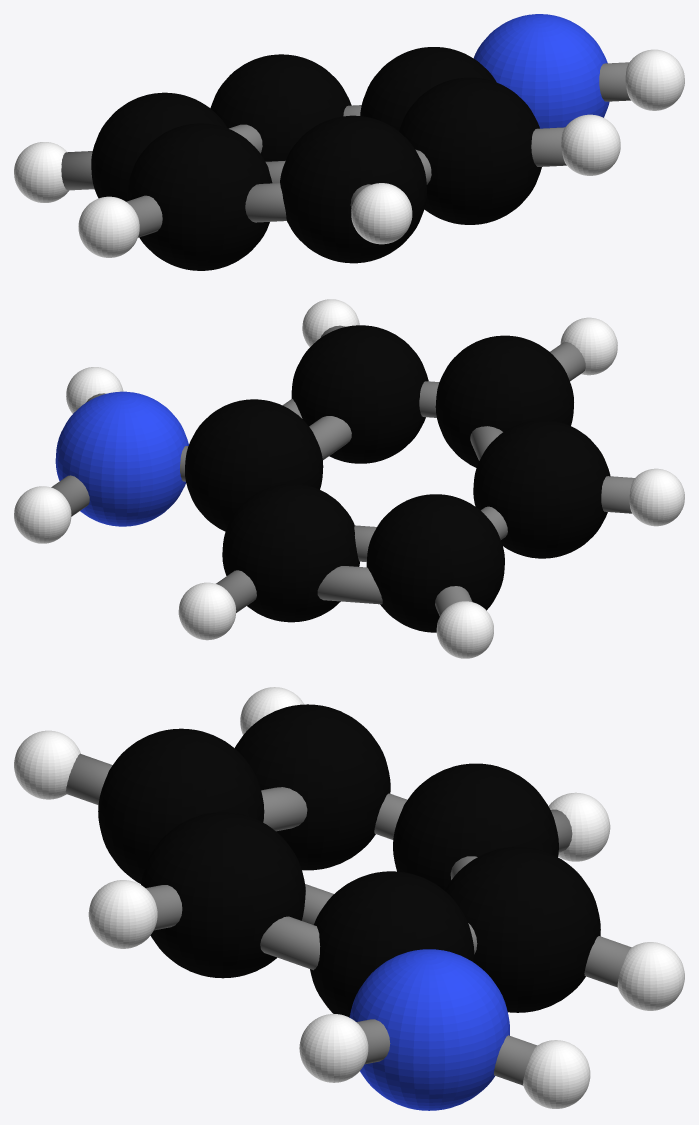
File: NITROBENCENO.obj
3 renders of one model, top to bottom at view 1: azimuth 30°, elevation 25°; view 2: azimuth 150°, elevation 25°; view 3: azimuth 270°, elevation 25°, orthographic. The views are drawn at different scales.
Visible parts, largest first — view 1: Carbon_ball_Sphere.002, Hydrogen_ball_Sphere, Nitrogen_ball_Sphere.001, Stick_Cylinder.009_Cylinder.009, Stick_Cylinder.011_Cylinder.011, Stick_Cylinder_Cylinder, Stick_Cylinder.003_Cylinder.003, Stick_Cylinder.008_Cylinder.008, Stick_Cylinder.004_Cylinder.004; view 2: Carbon_ball_Sphere.002, Hydrogen_ball_Sphere, Nitrogen_ball_Sphere.001, Stick_Cylinder.014_Cylinder.014, Stick_Cylinder.018_Cylinder.018, Stick_Cylinder.008_Cylinder.008, Stick_Cylinder.005_Cylinder.005, Stick_Cylinder.002_Cylinder.002, Stick_Cylinder.010_Cylinder.010, Stick_Cylinder.015_Cylinder.015, Stick_Cylinder_Cylinder, Stick_Cylinder.012_Cylinder.012; view 3: Carbon_ball_Sphere.002, Hydrogen_ball_Sphere, Nitrogen_ball_Sphere.001, Stick_Cylinder.016_Cylinder.016, Stick_Cylinder.015_Cylinder.015, Stick_Cylinder.005_Cylinder.005, Stick_Cylinder.010_Cylinder.010, Stick_Cylinder.002_Cylinder.002, Stick_Cylinder.011_Cylinder.011, Stick_Cylinder.003_Cylinder.003, Stick_Cylinder.007_Cylinder.007, Stick_Cylinder.018_Cylinder.018.
Boxes of the visible parts, bbox=[...] form: Carbon_ball_Sphere.002: bbox=[91, 47, 541, 270]; Hydrogen_ball_Sphere: bbox=[14, 49, 684, 257]; Nitrogen_ball_Sphere.001: bbox=[473, 14, 609, 128]; Stick_Cylinder.009_Cylinder.009: bbox=[245, 183, 286, 222]; Stick_Cylinder.011_Cylinder.011: bbox=[531, 127, 566, 166]; Stick_Cylinder_Cylinder: bbox=[61, 151, 94, 190]; Stick_Cylinder.003_Cylinder.003: bbox=[599, 62, 630, 101]; Stick_Cylinder.008_Cylinder.008: bbox=[126, 195, 162, 237]; Stick_Cylinder.004_Cylinder.004: bbox=[229, 124, 262, 153]; Carbon_ball_Sphere.002: bbox=[185, 325, 610, 632]; Hydrogen_ball_Sphere: bbox=[14, 299, 684, 658]; Nitrogen_ball_Sphere.001: bbox=[55, 391, 188, 526]; Stick_Cylinder.014_Cylinder.014: bbox=[317, 566, 382, 604]; Stick_Cylinder.018_Cylinder.018: bbox=[309, 416, 351, 459]; Stick_Cylinder.008_Cylinder.008: bbox=[601, 476, 634, 513]; Stick_Cylinder.005_Cylinder.005: bbox=[216, 570, 256, 612]; Stick_Cylinder.002_Cylinder.002: bbox=[51, 475, 89, 516]; Stick_Cylinder.010_Cylinder.010: bbox=[550, 342, 585, 381]; Stick_Cylinder.015_Cylinder.015: bbox=[470, 426, 502, 460]; Stick_Cylinder_Cylinder: bbox=[435, 586, 472, 616]; Stick_Cylinder.012_Cylinder.012: bbox=[419, 381, 439, 417]; Carbon_ball_Sphere.002: bbox=[98, 704, 600, 1017]; Hydrogen_ball_Sphere: bbox=[14, 687, 684, 1108]; Nitrogen_ball_Sphere.001: bbox=[349, 949, 509, 1110]; Stick_Cylinder.016_Cylinder.016: bbox=[260, 916, 320, 970]; Stick_Cylinder.015_Cylinder.015: bbox=[261, 787, 307, 831]; Stick_Cylinder.005_Cylinder.005: bbox=[584, 936, 631, 987]; Stick_Cylinder.010_Cylinder.010: bbox=[65, 753, 112, 804]; Stick_Cylinder.002_Cylinder.002: bbox=[494, 1035, 536, 1085]; Stick_Cylinder.011_Cylinder.011: bbox=[146, 885, 182, 930]; Stick_Cylinder.003_Cylinder.003: bbox=[356, 1019, 390, 1064]; Stick_Cylinder.007_Cylinder.007: bbox=[374, 793, 407, 839]; Stick_Cylinder.018_Cylinder.018: bbox=[302, 884, 333, 924].
Bounding box in the file's own units: 7.52 × 2.31 × 6.22.
